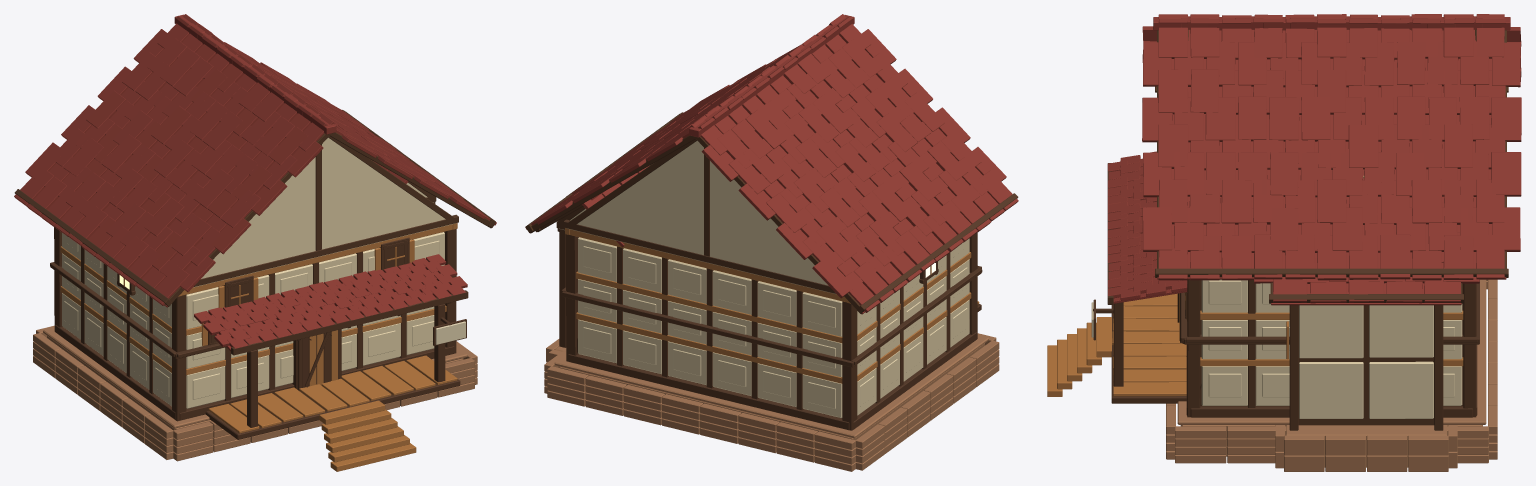
File: building_inn_b.glb
The picture shows the model from 3 angles, left to right: view 1: azimuth 30°, elevation 25°; view 2: azimuth 150°, elevation 25°; view 3: azimuth 270°, elevation 25°; orthographic projection. The views are drawn at different scales.
Visible parts, largest first — view 1: building_inn_b_LOD0; view 2: building_inn_b_LOD0; view 3: building_inn_b_LOD0.
Boxes of the visible parts, x1=… form: building_inn_b_LOD0: x1=14, y1=14, x2=496, y2=471; building_inn_b_LOD0: x1=525, y1=14, x2=1018, y2=471; building_inn_b_LOD0: x1=1047, y1=14, x2=1521, y2=471.
Size of what is drawn, in the model's own units: 10.45 by 8.79 by 10.55.
